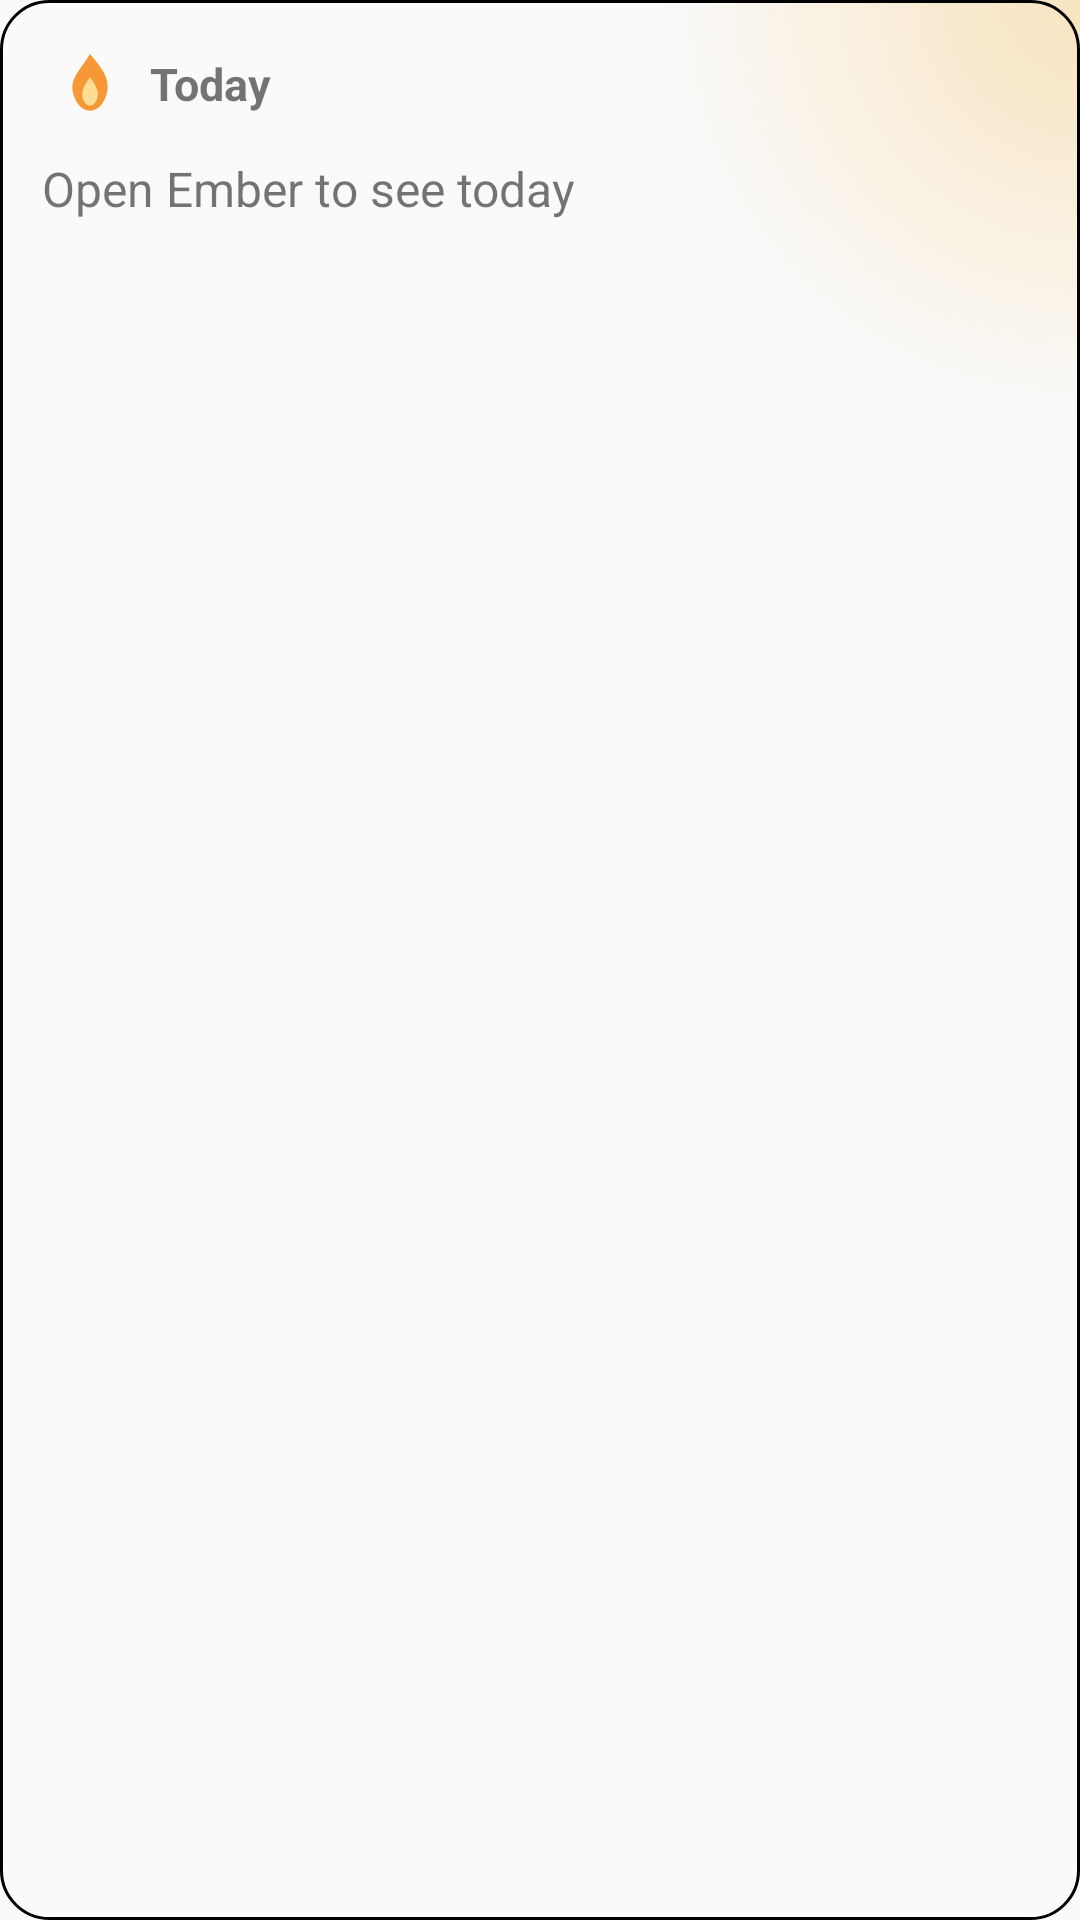

Icon click points for this 1080 x 1920 phone screenshot, format [x,y]:
widget flame: [90,82]
